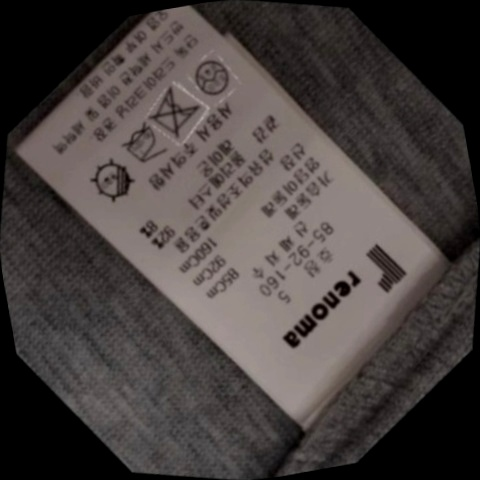DN_wash: (141, 79, 214, 146)
dry_clean_petrol_only: (185, 47, 243, 105)
iron_low: (111, 116, 175, 176)
line_dry_in_shade: (81, 150, 150, 213)
